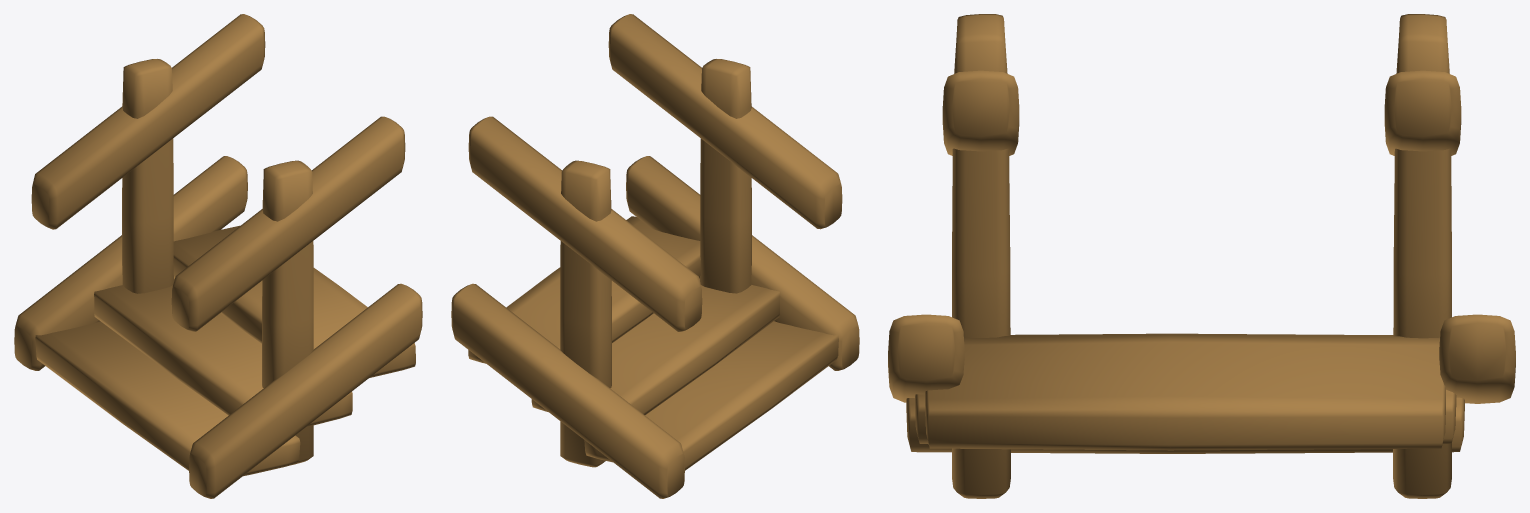
File: Stairs_Small.glb
3 renders of one model, left to right at view 1: azimuth 30°, elevation 25°; view 2: azimuth 150°, elevation 25°; view 3: azimuth 270°, elevation 25°, orthographic. The views are drawn at different scales.
Visible parts, largest first — view 1: Stairs_Small; view 2: Stairs_Small; view 3: Stairs_Small.
Part boxes in pixels (x1,y1,x2,y2): Stairs_Small: (14, 14, 422, 498); Stairs_Small: (451, 14, 859, 498); Stairs_Small: (888, 14, 1515, 498).
Bounding box in the file's own units: 1.64 × 2.23 × 2.56.
